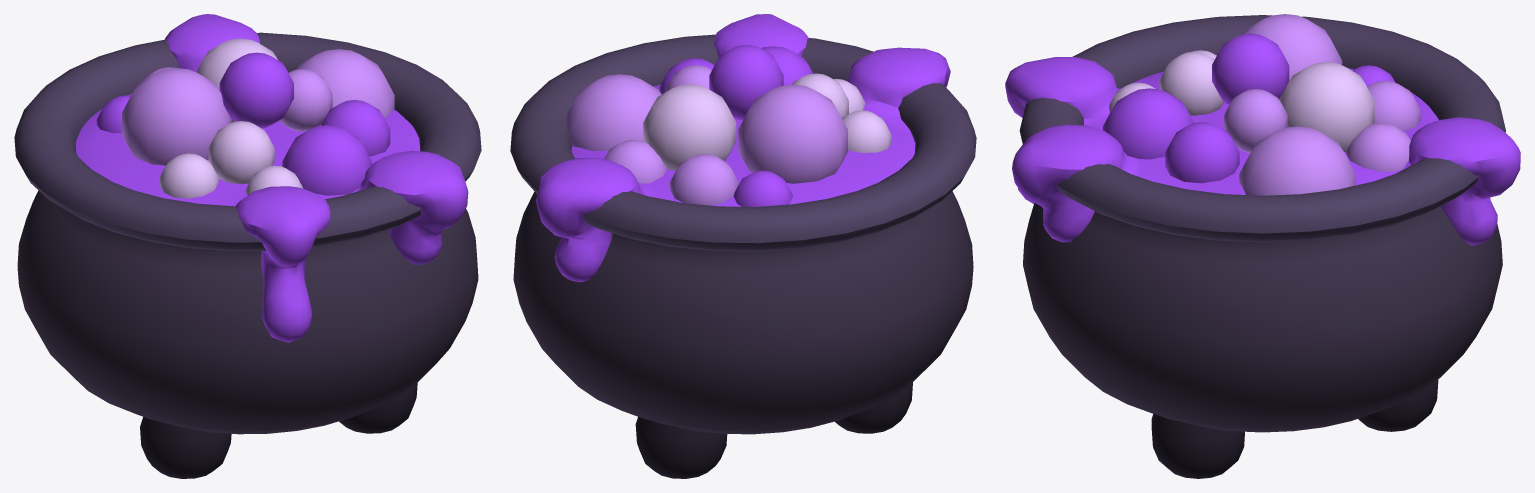
File: PurpleCauldron.fbx
The picture shows the model from 3 angles, left to right: view 1: azimuth 30°, elevation 25°; view 2: azimuth 150°, elevation 25°; view 3: azimuth 270°, elevation 25°; orthographic projection. The views are drawn at different scales.
Parts seen in each view (by area): view 1: PurpleCauldron; view 2: PurpleCauldron; view 3: PurpleCauldron.
Part boxes in pixels (bbox=[...]): PurpleCauldron: bbox=[14, 14, 481, 478]; PurpleCauldron: bbox=[510, 14, 976, 478]; PurpleCauldron: bbox=[1005, 14, 1520, 478].
Bounding box in the file's own units: 208 × 182 × 221.
1 material, 1 textured.
